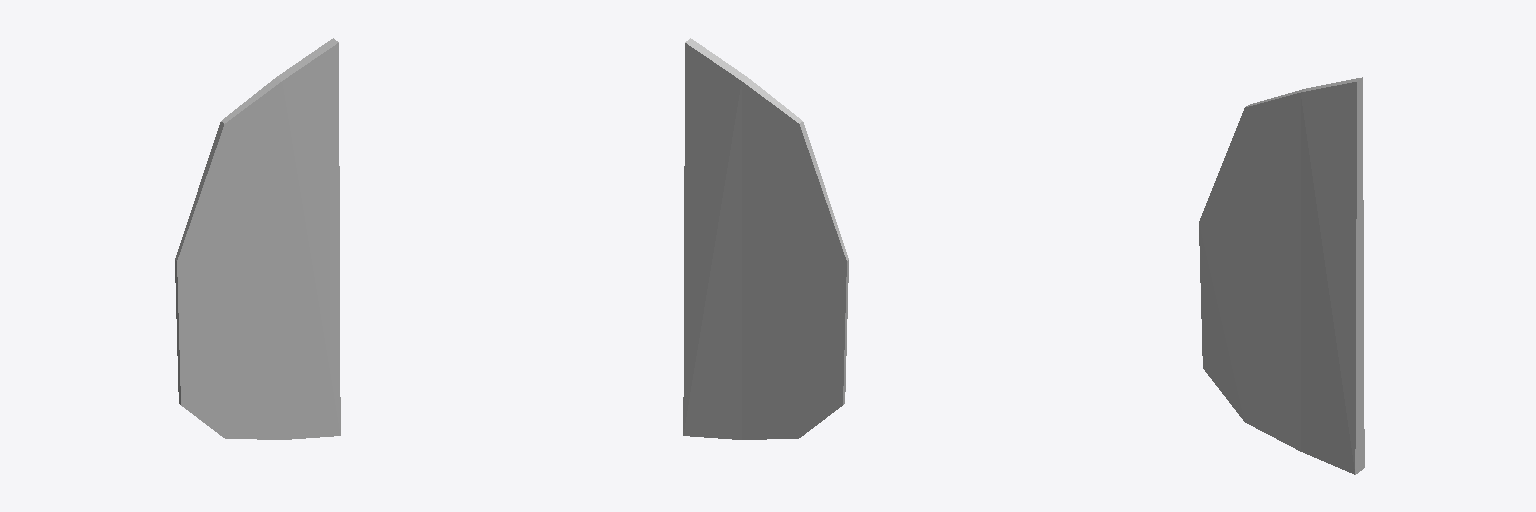
The model's file is aleta_trasera_vert.obj.
The picture shows the model from 3 angles: view 1: azimuth 30°, elevation 25°; view 2: azimuth 150°, elevation 25°; view 3: azimuth 330°, elevation 25°; orthographic projection.
Parts seen in each view (by area): view 1: Cube.003; view 2: Cube.003; view 3: Cube.003.
Boxes of the visible parts, x1=… form: Cube.003: x1=175, y1=38, x2=340, y2=439; Cube.003: x1=683, y1=38, x2=848, y2=439; Cube.003: x1=1199, y1=77, x2=1364, y2=474.
Size of the model in its own units: 0.3318 by 0.7771 by 0.0333.